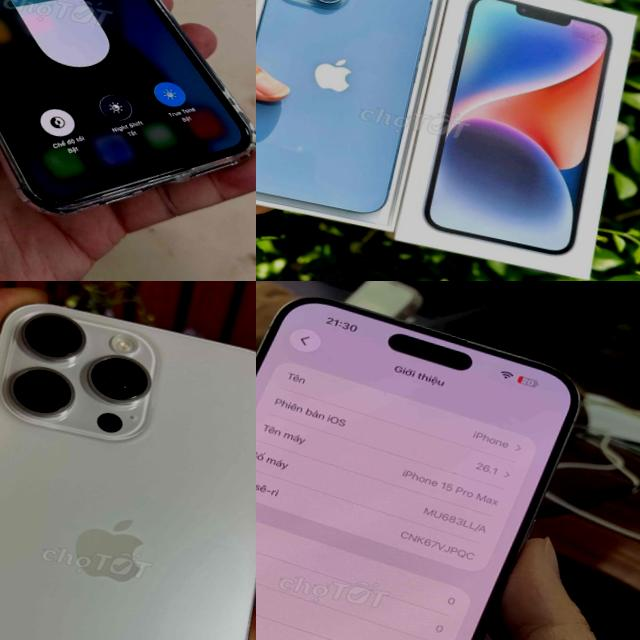gen_11: (0, 0, 256, 247)
gen_14: (256, 0, 450, 226)
gen_15: (256, 281, 599, 640)
gen_16: (0, 304, 256, 640)
